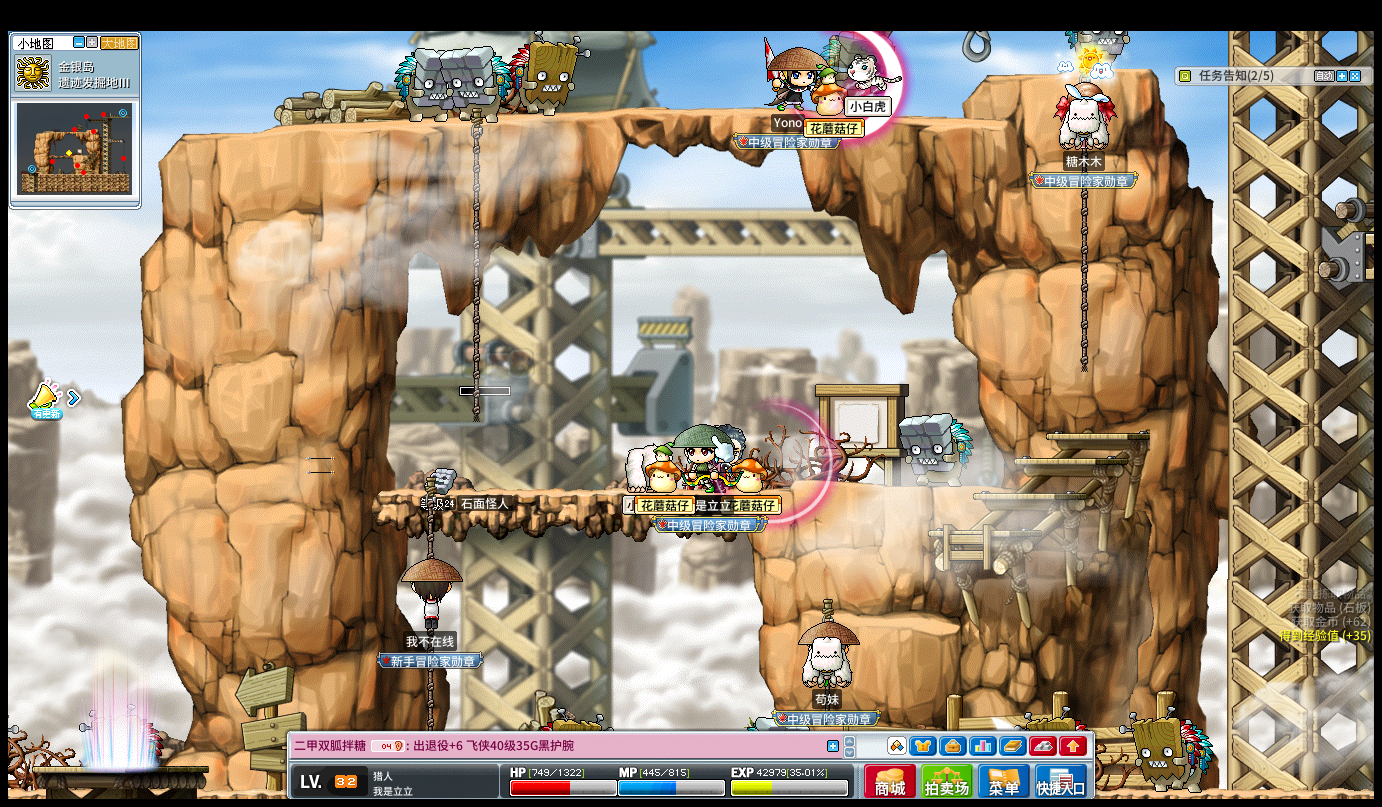floor: (196, 103, 1043, 139), (376, 488, 763, 499), (983, 68, 1162, 82), (855, 613, 960, 634), (857, 483, 1010, 494), (1045, 429, 1151, 440), (1009, 456, 1123, 464), (925, 528, 1038, 536), (974, 492, 1085, 500)
monster: (1125, 711, 1211, 790), (509, 28, 583, 114), (897, 412, 971, 487), (446, 44, 510, 122), (394, 46, 447, 122)
rope: (469, 110, 481, 427), (1077, 84, 1089, 377), (1078, 187, 1090, 373), (1077, 260, 1089, 373), (422, 479, 435, 559), (423, 669, 432, 728)
